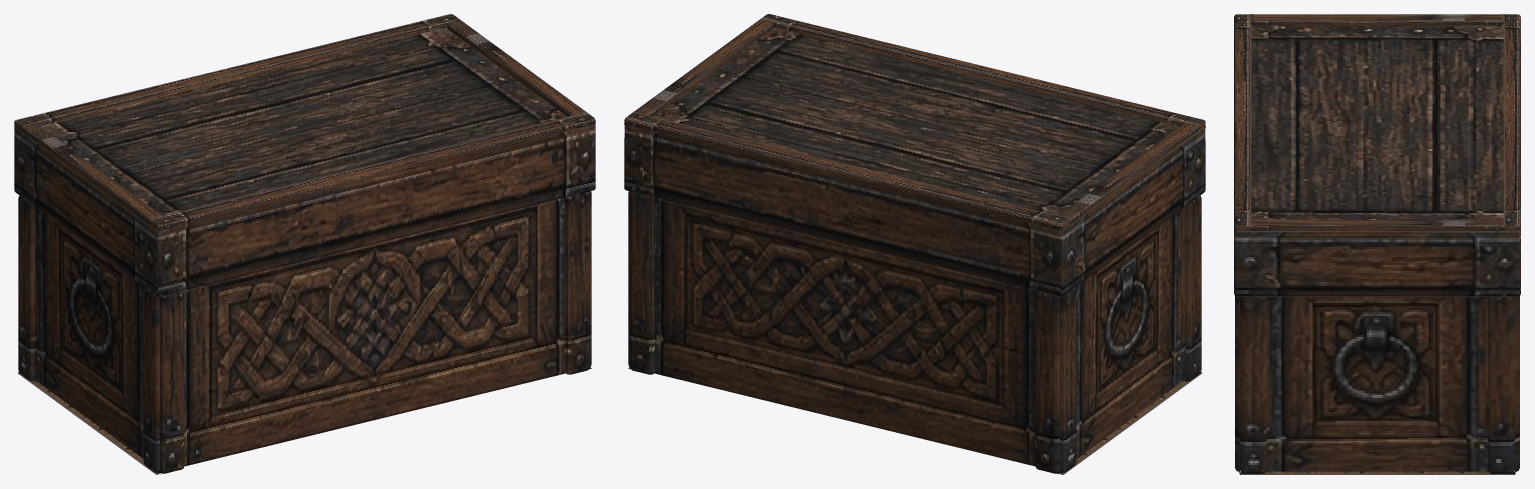
The model's file is chest_rustic_carved.glb.
3 renders of one model, left to right at view 1: azimuth 30°, elevation 25°; view 2: azimuth 150°, elevation 25°; view 3: azimuth 270°, elevation 25°, orthographic.
Parts seen in each view (by area): view 1: lid, body; view 2: lid, body; view 3: lid, body.
Boxes of the visible parts, x1,y1,x2,y2 form: lid: (14, 14, 595, 296); body: (18, 191, 591, 474); lid: (624, 14, 1205, 296); body: (628, 191, 1201, 474); lid: (1234, 14, 1520, 296); body: (1235, 296, 1519, 474).
Size of the model in its own units: 1.03 by 0.562 by 0.584.
1 material, 1 textured.
